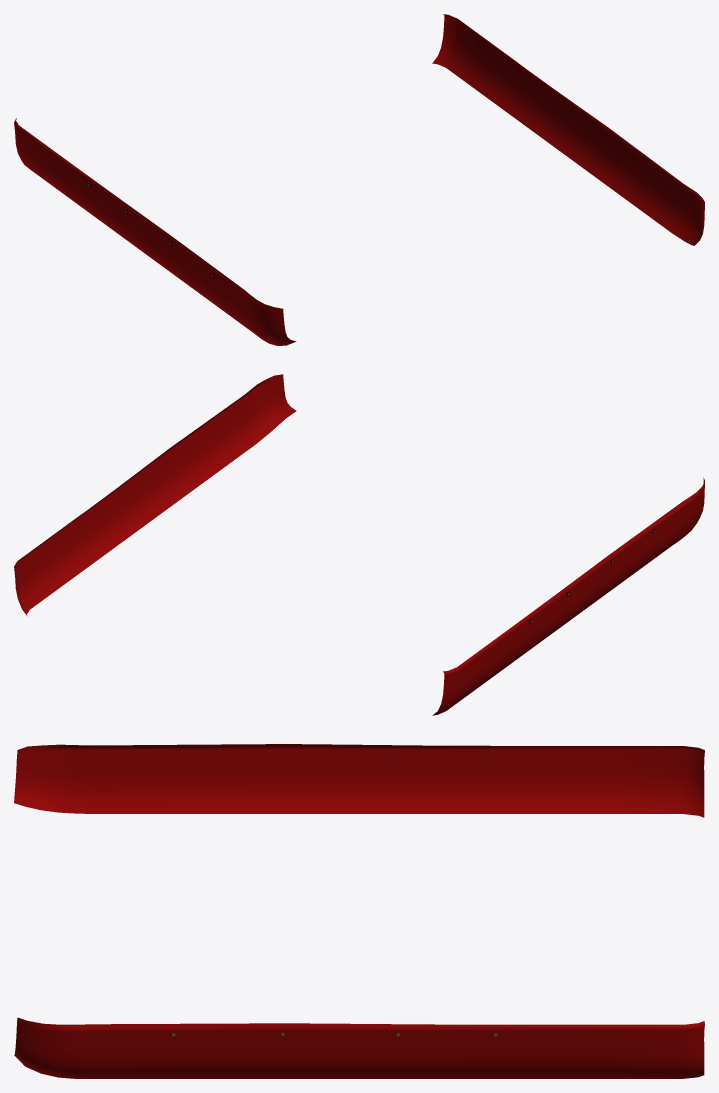
The model's file is sideskirts_rocketbunnyv2.glb.
The picture shows the model from 3 angles, top to bottom: view 1: azimuth 30°, elevation 25°; view 2: azimuth 150°, elevation 25°; view 3: azimuth 270°, elevation 25°; orthographic projection. The views are drawn at different scales.
Parts seen in each view (by area): view 1: Sideskirts; view 2: Sideskirts; view 3: Sideskirts.
Boxes of the visible parts, <box> form: Sideskirts: <box>14,14,704,345</box>; Sideskirts: <box>14,374,704,715</box>; Sideskirts: <box>14,744,704,1078</box>.
Bounding box in the file's own units: 1.63 × 0.1691 × 1.68.
